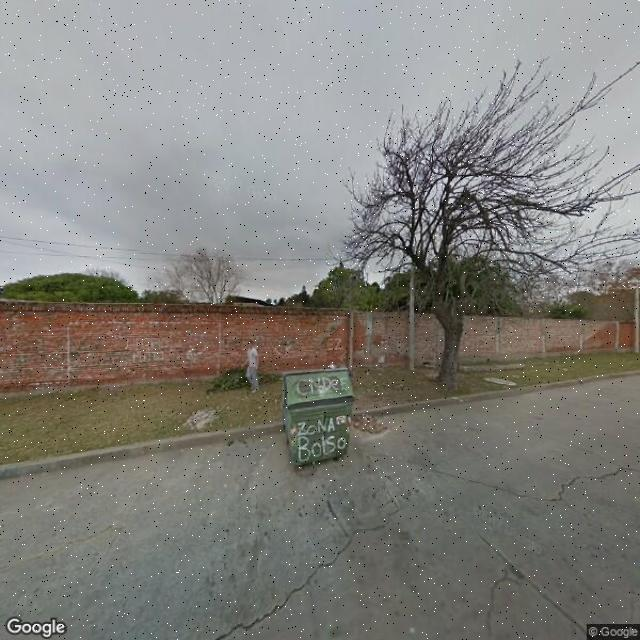garbage container: (277, 364, 366, 490)
